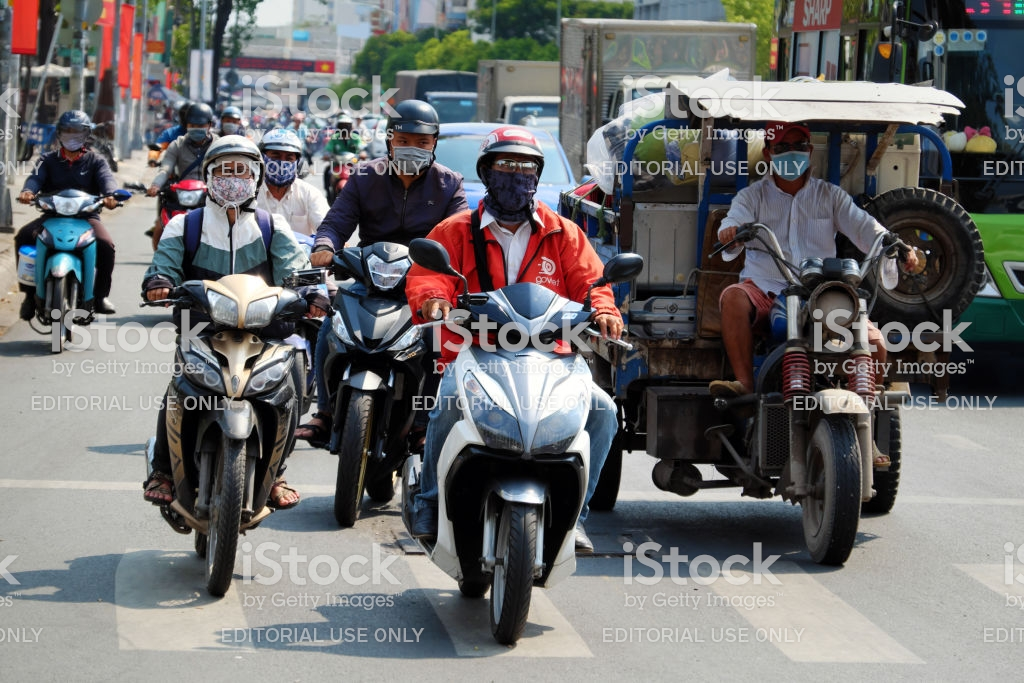helmet: (388, 92, 447, 144), (478, 120, 543, 167), (204, 132, 268, 172), (55, 108, 88, 135)
